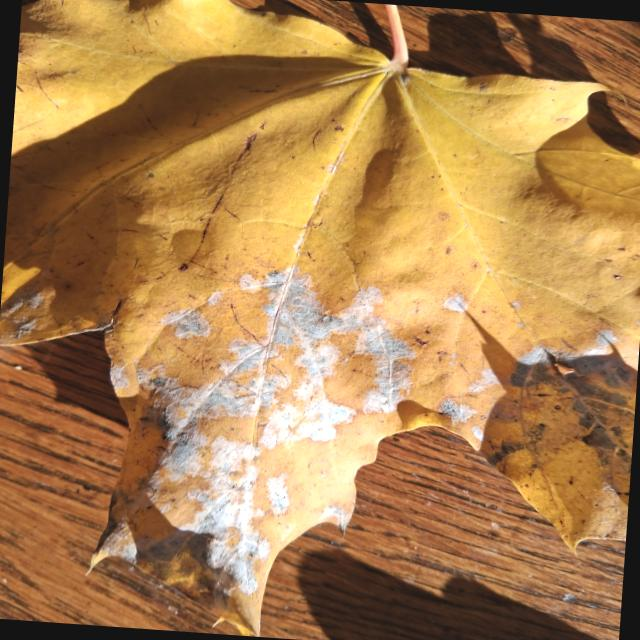powdery_mildew: (0, 0, 640, 636)
